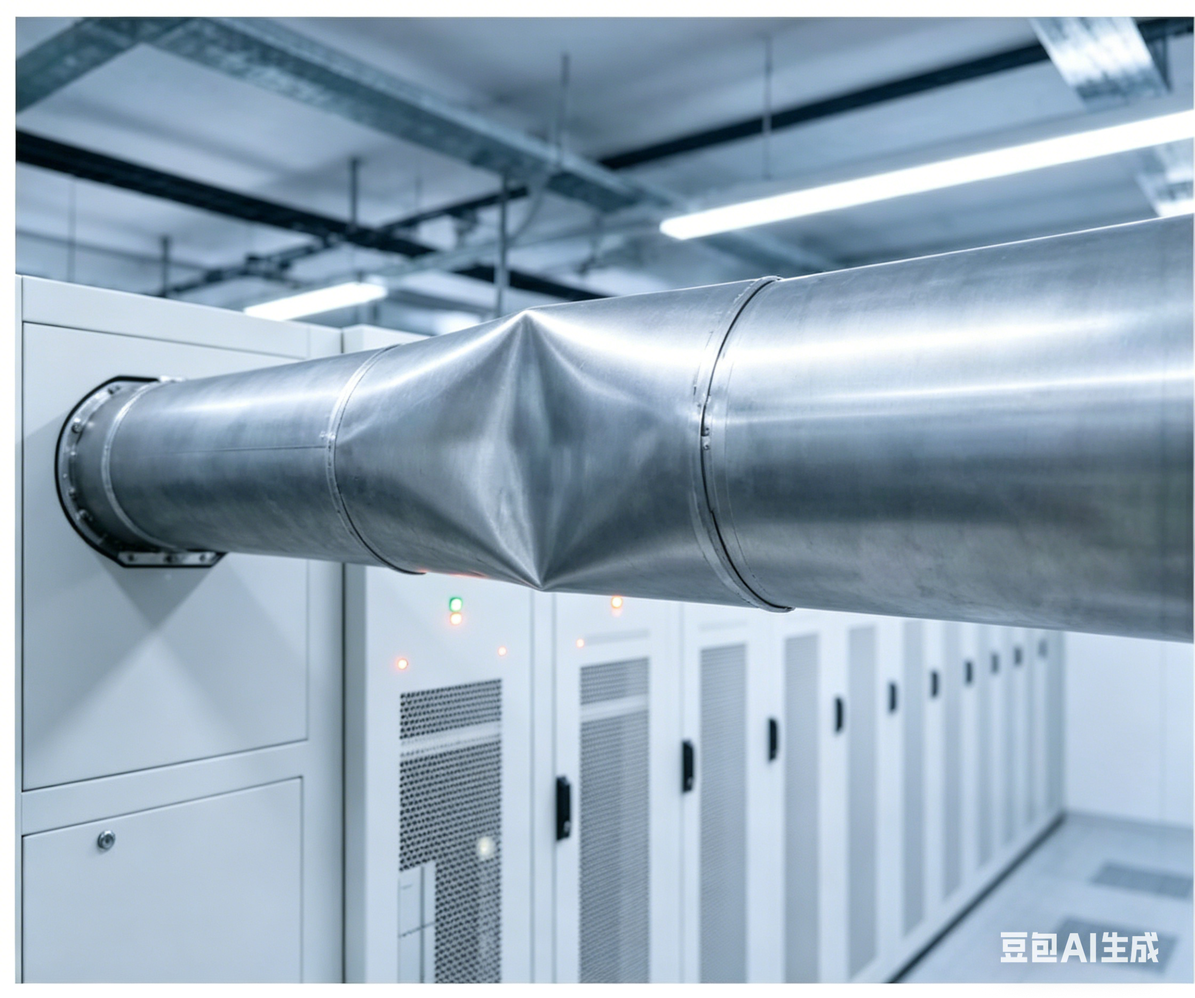Leakage: (400, 310, 670, 591)
